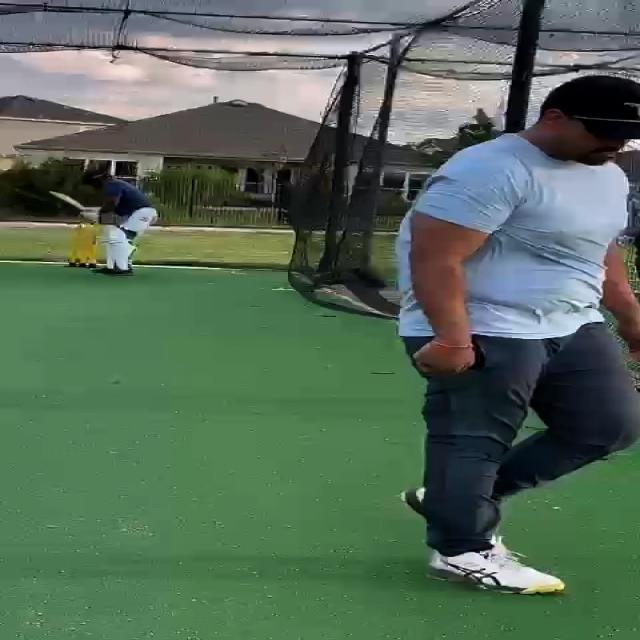batsman: (48, 169, 161, 278)
